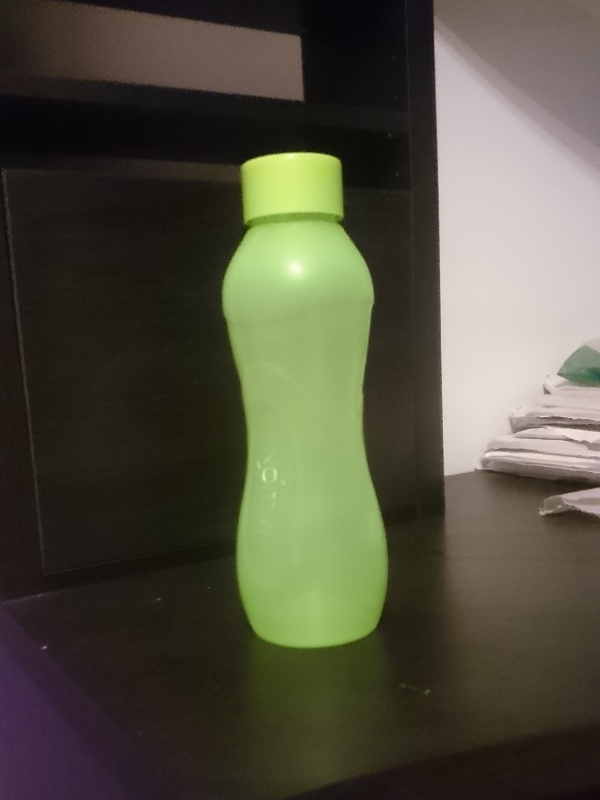my bottle: (221, 152, 387, 652)
